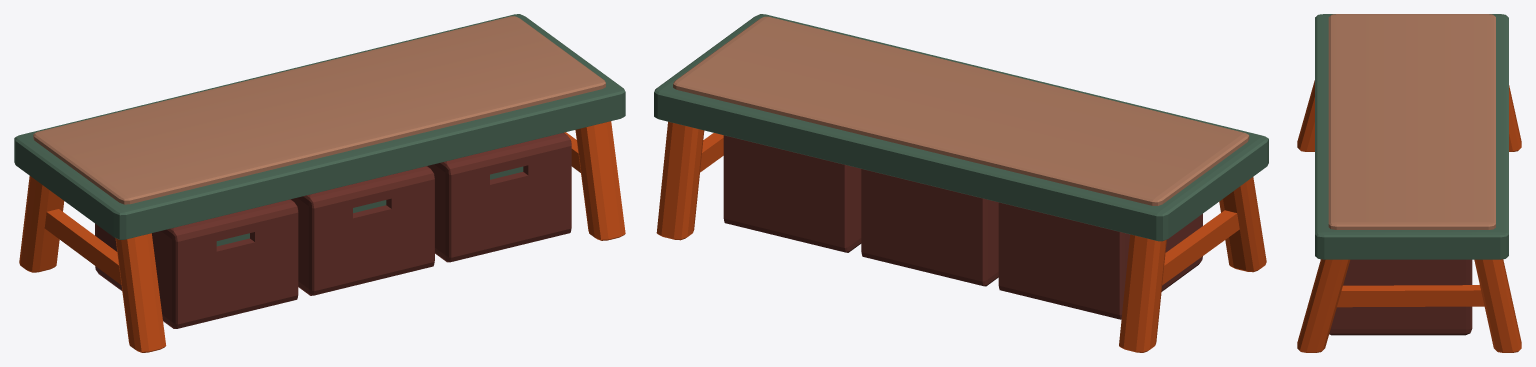
Rendered from sitting_place_entrance.fbx.
The picture shows the model from 3 angles, left to right: view 1: azimuth 30°, elevation 25°; view 2: azimuth 150°, elevation 25°; view 3: azimuth 270°, elevation 25°; orthographic projection. The views are drawn at different scales.
Parts seen in each view (by area): view 1: sitting_place_entrance, Cube.008, Cube.006, Cube.011; view 2: sitting_place_entrance, Cube.008, Cube.006, Cube.011; view 3: sitting_place_entrance, Cube.006, Cube.011, Cube.008.
Part boxes in pixels (x1,y1,x2,y2): sitting_place_entrance: [33, 16, 605, 204]; Cube.008: [95, 132, 571, 328]; Cube.006: [14, 14, 625, 246]; Cube.011: [19, 121, 625, 352]; sitting_place_entrance: [673, 16, 1249, 205]; Cube.008: [723, 135, 1202, 319]; Cube.006: [654, 14, 1268, 241]; Cube.011: [656, 121, 1266, 352]; sitting_place_entrance: [1328, 14, 1495, 229]; Cube.006: [1315, 14, 1508, 259]; Cube.011: [1297, 80, 1521, 352]; Cube.008: [1329, 259, 1472, 335].
Bounding box in the file's own units: 158 × 42.49 × 67.13.
